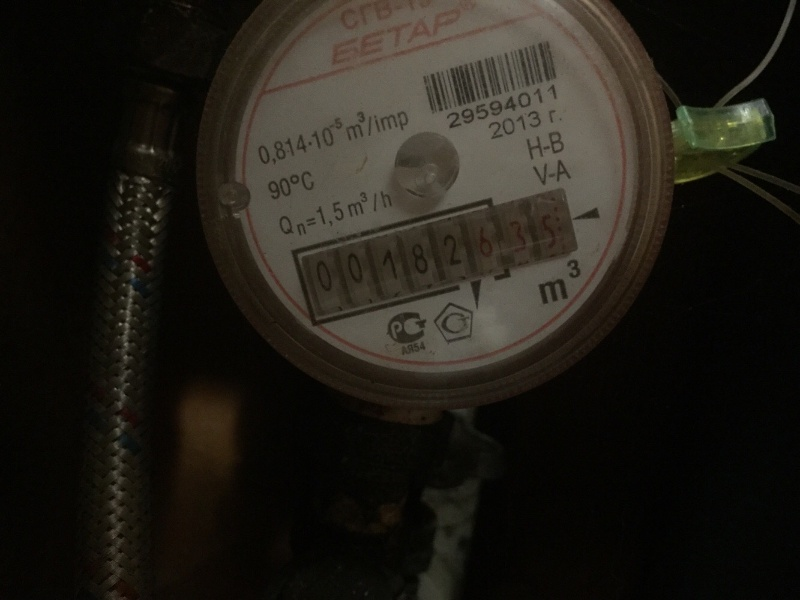meter: (295, 213, 591, 295)
